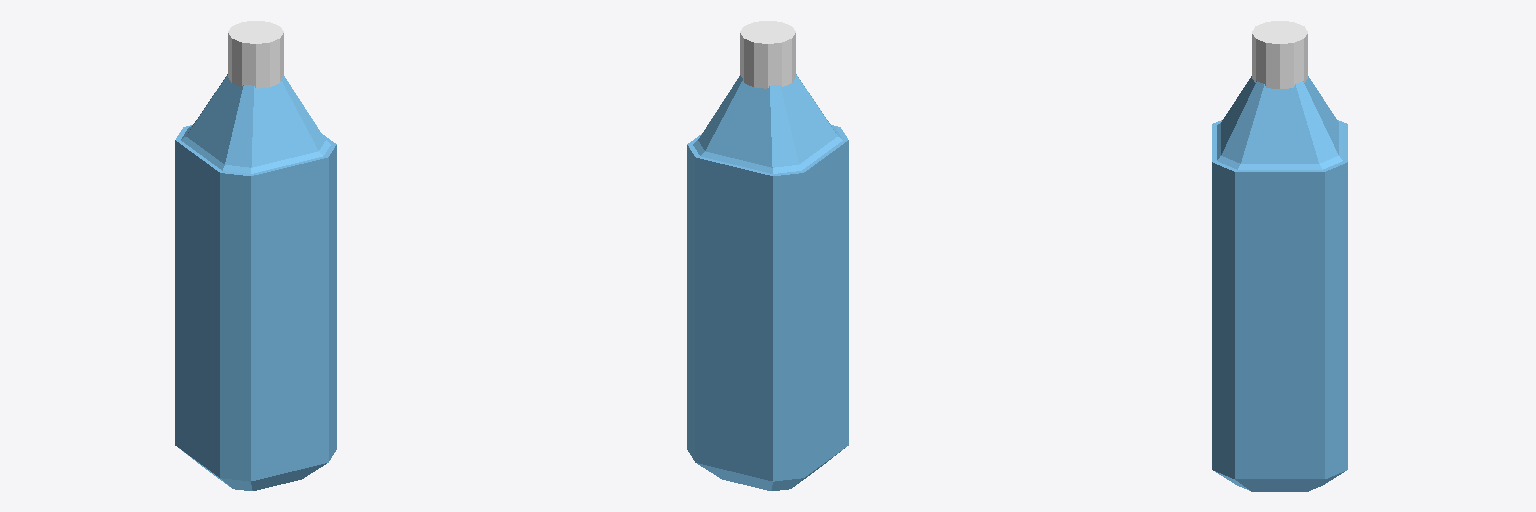
The robot description file, URDF, robot "petbottle":
<?xml version="1.0"?>
<robot name="petbottle"
       xmlns:xi="http://www.w3.org/2001/XInclude"
       xmlns:gazebo="http://playerstage.sourceforge.net/gazebo/xmlschema/#gz"
       xmlns:model="http://playerstage.sourceforge.net/gazebo/xmlschema/#model"
       xmlns:sensor="http://playerstage.sourceforge.net/gazebo/xmlschema/#sensor"
       xmlns:body="http://playerstage.sourceforge.net/gazebo/xmlschema/#body"
       xmlns:geom="http://playerstage.sourceforge.net/gazebo/xmlschema/#geom"
       xmlns:joint="http://playerstage.sourceforge.net/gazebo/xmlschema/#joint"
       xmlns:interface="http://playerstage.sourceforge.net/gazebo/xmlschema/#interface"
       xmlns:rendering="http://playerstage.sourceforge.net/gazebo/xmlschema/#rendering"
       xmlns:renderable="http://playerstage.sourceforge.net/gazebo/xmlschema/#renderable"
       xmlns:controller="http://playerstage.sourceforge.net/gazebo/xmlschema/#controller"
       xmlns:physics="http://playerstage.sourceforge.net/gazebo/xmlschema/#physics">
  <gazebo>
    <static>false</static>
  </gazebo>
  <link name="nil_link">
    <visual>
      <origin xyz="0 0 0" rpy="0 -0 0"/>
      <geometry>
        <mesh filename="model://petbottle/meshes/nil_link_mesh.dae" scale="1 1 1" />
      </geometry>
    </visual>
    <collision>
      <origin xyz="0 0 0" rpy="0 -0 0"/>
      <geometry>
        <mesh filename="model://petbottle/meshes/nil_link_mesh.dae" scale="1 1 1" />
      </geometry>
    </collision>
    <inertial>
      <mass value="0.001" />
      <origin xyz="0 0 0" rpy="0 -0 0"/>
      <inertia ixx="1e-09" ixy="0" ixz="0" iyy="1e-09" iyz="0" izz="1e-09"/>
    </inertial>
  </link>
  <gazebo reference="nil_link">
    <mu1>0.9</mu1>
    <mu2>0.9</mu2>
  </gazebo>
</robot>

--- What the picture shows (computed from the rendered views, not written in the file) ---
3 views of the same robot in one strip: view 1: azimuth 30°, elevation 25°; view 2: azimuth 150°, elevation 25°; view 3: azimuth 270°, elevation 25° (orthographic).
Model petbottle with 1 links and 0 joints (none), rooted at nil_link, posed all joints at 0.
Visible links, largest first — view 1: nil_link; view 2: nil_link; view 3: nil_link.
Boxes of the visible links, x1,y1,x2,y2 form: nil_link: [175, 21, 336, 490]; nil_link: [687, 21, 848, 490]; nil_link: [1212, 21, 1347, 491].
Size in the robot's own frame: 0.06 by 0.06 by 0.215 metres.
1 mesh visuals loaded from 1 distinct referenced files (1 Collada DAE).
